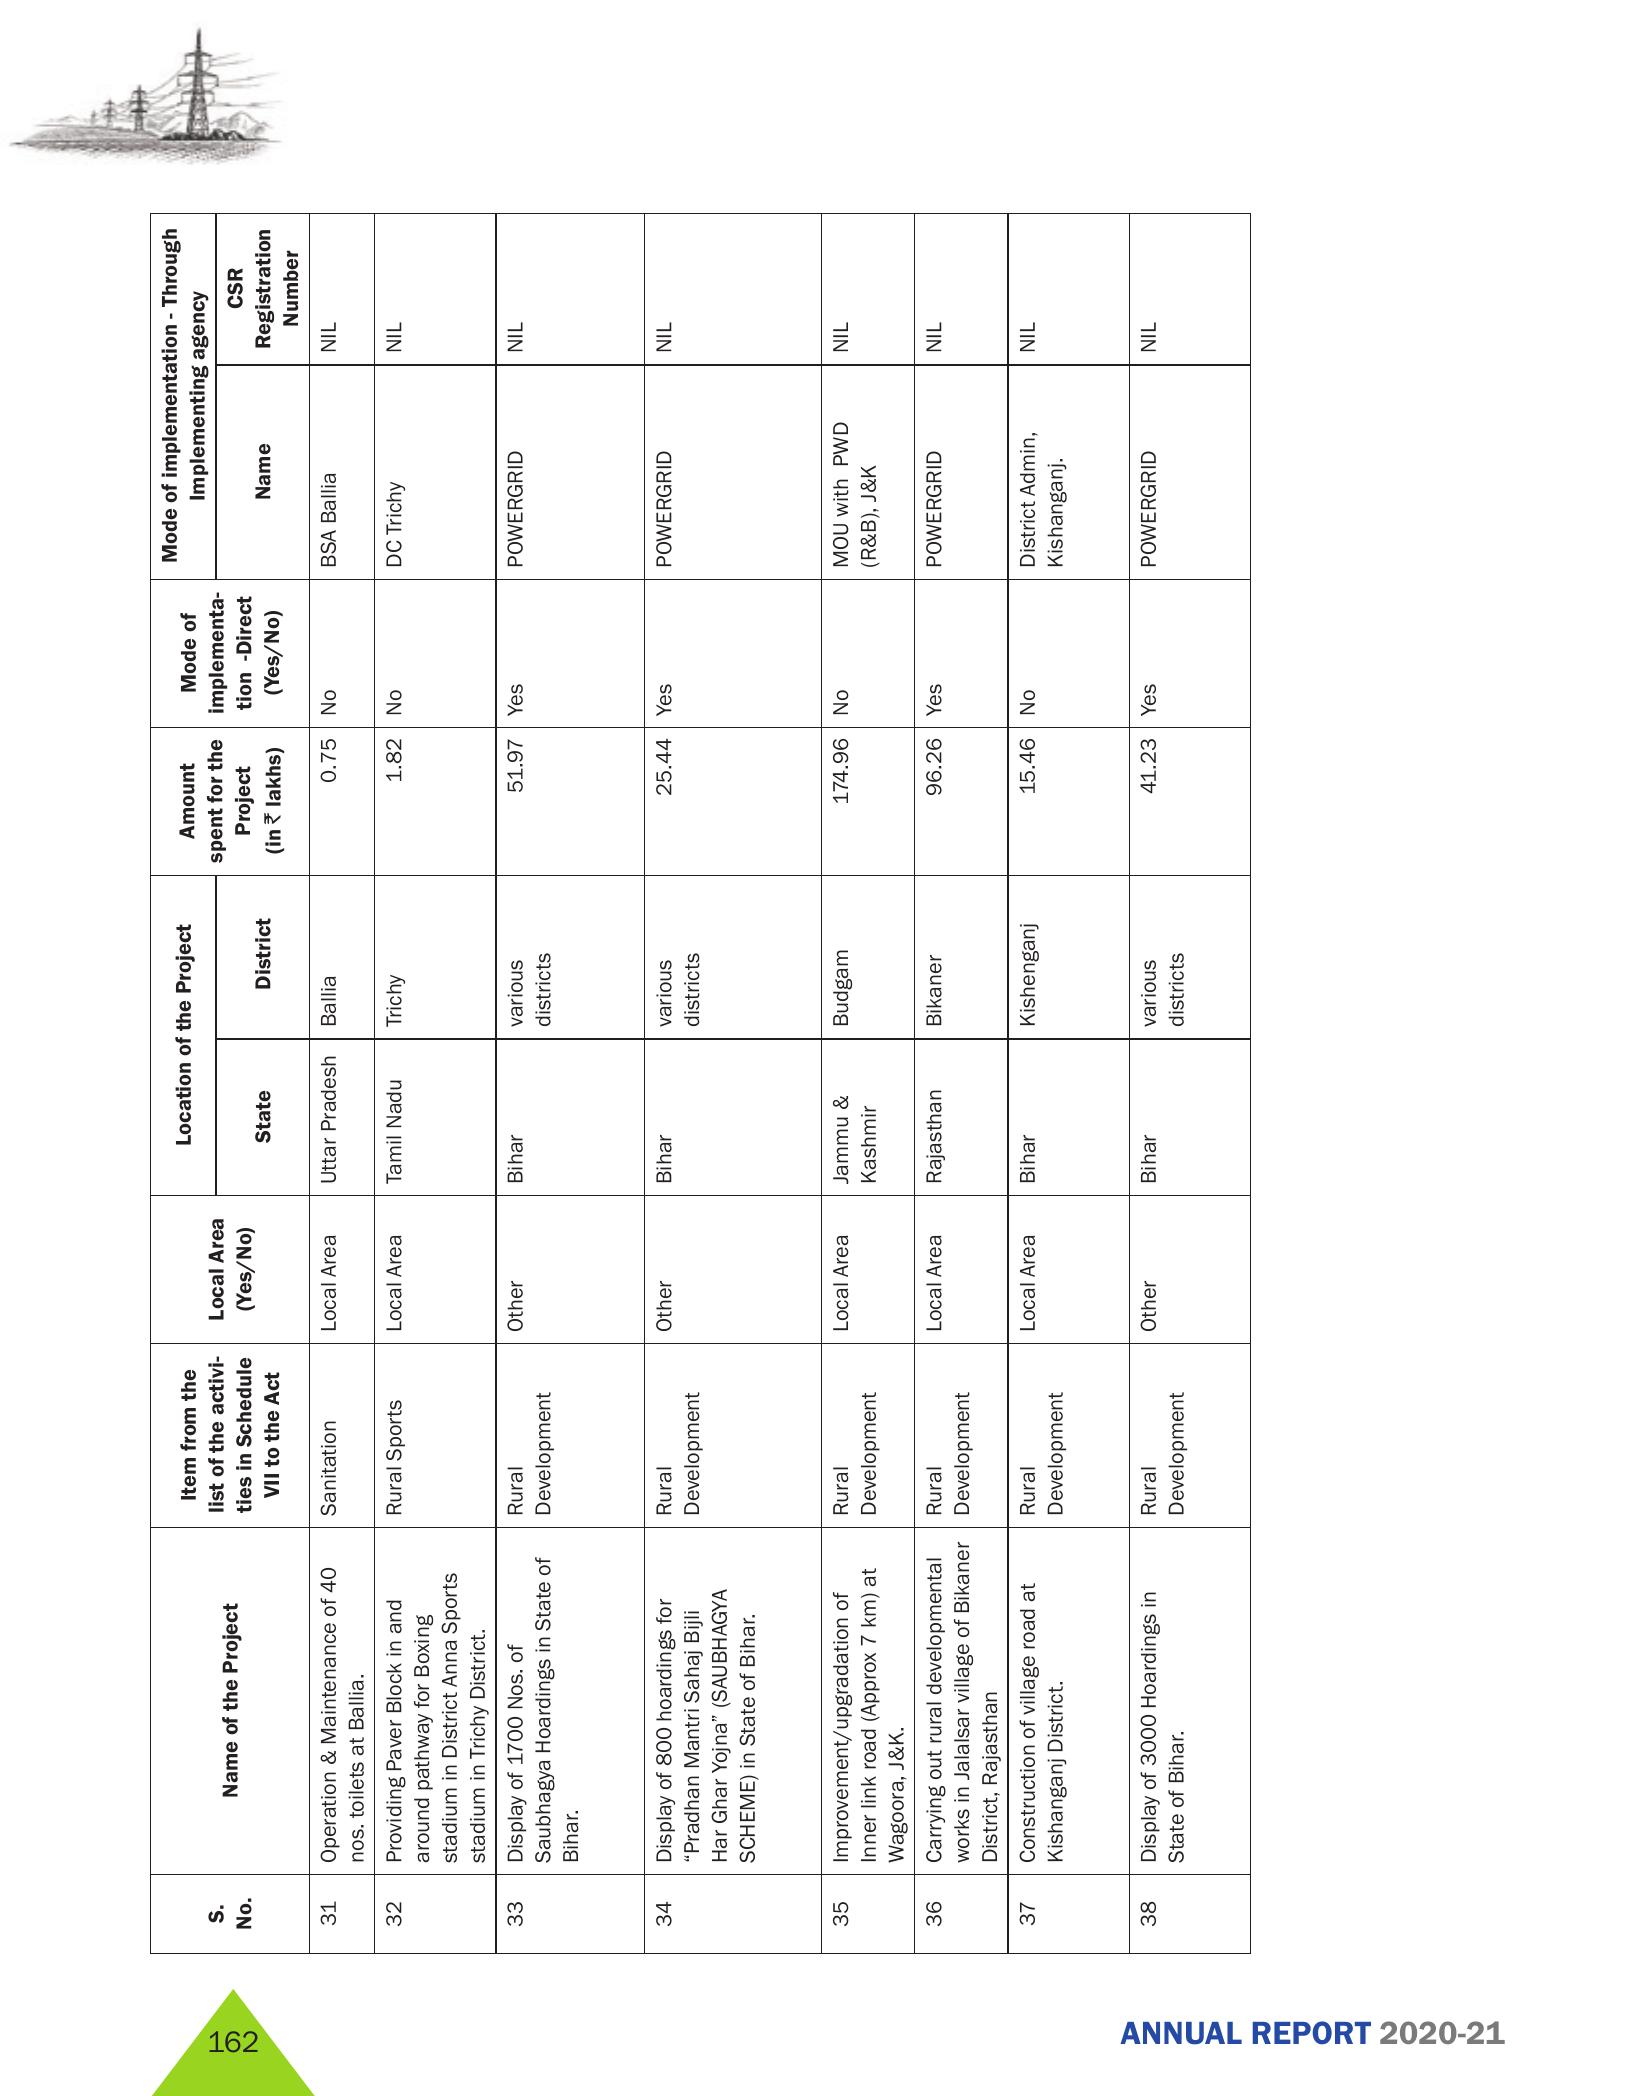Footer: (0, 1962, 1650, 2096)
Header: (0, 0, 1650, 184)
Table: (105, 201, 1361, 1953)
